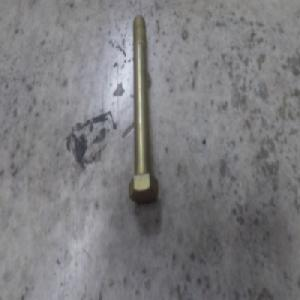Bolt: (127, 12, 159, 205)
